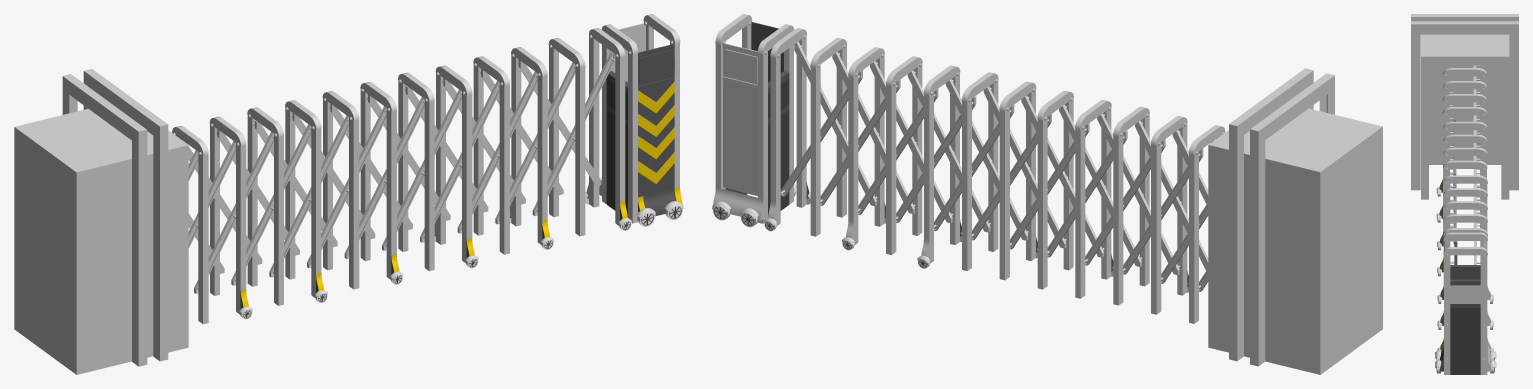
3 views of the same model, side by side, from view 1: azimuth 30°, elevation 25°; view 2: azimuth 150°, elevation 25°; view 3: azimuth 270°, elevation 25° (orthographic). The views are drawn at different scales.
Parts seen in each view (by area): view 1: Group_217, Group_218, Group_033, Group_220, 群组#2_004, 群组#2_002, 群组#2_012, 群组#2_018, 群组#2_024, Group_021, 群组#2_006, 群组#2_020 (+41 smaller); view 2: Group_217, Group_218, Group_220, Group_031, 群组#2_003, 群组#2_005, 群组#2_007, 群组#2_017, 群组#2_013, 群组#2_009, 群组#2_023, 群组#2_019 (+42 smaller); view 3: Group_217, Group_220, Group_006, Group_008, Group_218, Group_009, Group_018, Group_021, Group_007, Group_022, Group_137, Group_153 (+14 smaller).
Boxes of the visible parts, x1,y1,x2,y2 form: Group_217: (14, 109, 188, 374); Group_218: (62, 74, 147, 366); Group_033: (638, 44, 674, 197); Group_220: (83, 69, 168, 361); 群组#2_004: (349, 117, 359, 289); 群组#2_002: (424, 99, 434, 271); 群组#2_012: (198, 152, 208, 324); 群组#2_018: (575, 64, 585, 236); 群组#2_024: (499, 82, 509, 254); Group_021: (606, 71, 627, 216); 群组#2_006: (386, 108, 396, 279); 群组#2_020: (537, 73, 547, 244); Group_217: (1208, 108, 1382, 374); Group_218: (1250, 73, 1334, 366); Group_220: (1229, 68, 1313, 361); Group_031: (722, 43, 757, 195); 群组#2_003: (1037, 117, 1047, 289); 群组#2_005: (999, 108, 1009, 280); 群组#2_007: (1075, 126, 1085, 298); 群组#2_017: (810, 64, 820, 236); 群组#2_013: (1151, 142, 1161, 314); 群组#2_009: (1113, 133, 1123, 305); 群组#2_023: (886, 83, 896, 254); 群组#2_019: (848, 76, 858, 244); Group_217: (1421, 34, 1509, 199); Group_220: (1411, 21, 1518, 190); Group_006: (1450, 279, 1480, 374); Group_008: (1480, 255, 1487, 374); Group_218: (1411, 14, 1518, 21); Group_009: (1444, 255, 1450, 374); Group_018: (1450, 285, 1480, 303); Group_021: (1450, 265, 1480, 279); Group_007: (1443, 247, 1487, 255); Group_022: (1443, 232, 1487, 240); Group_137: (1442, 81, 1486, 89); Group_153: (1442, 68, 1486, 76).
Size of the model in its own units: 577 by 210 by 123.
